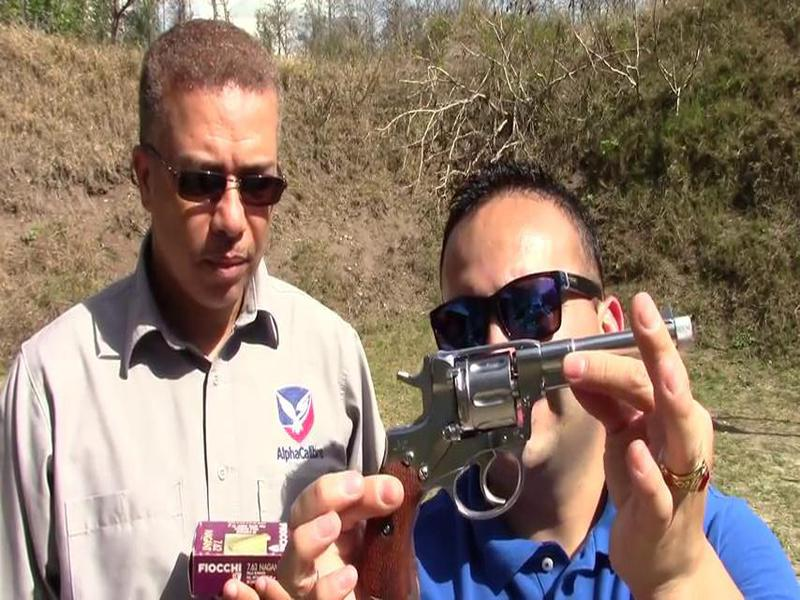Revolver: (355, 303, 725, 539)
